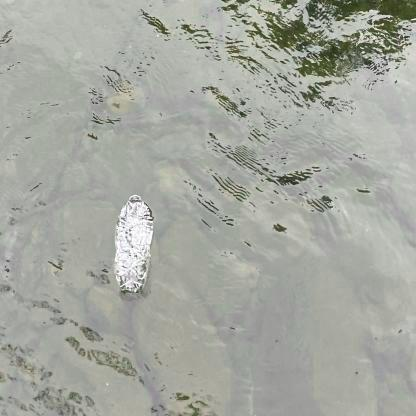Plastic: (107, 186, 158, 299)
